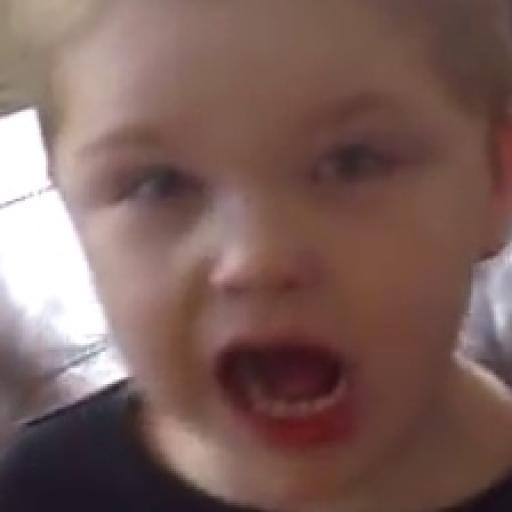Autism: (35, 12, 502, 502)
